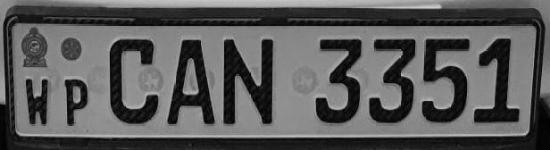1: (472, 26, 525, 133)
3: (368, 28, 420, 132), (314, 28, 365, 132)
5: (420, 26, 471, 134)
A: (161, 29, 217, 130)
C: (102, 32, 164, 128)
N: (218, 28, 281, 132)
P: (60, 74, 95, 129)
W: (20, 70, 54, 129)
